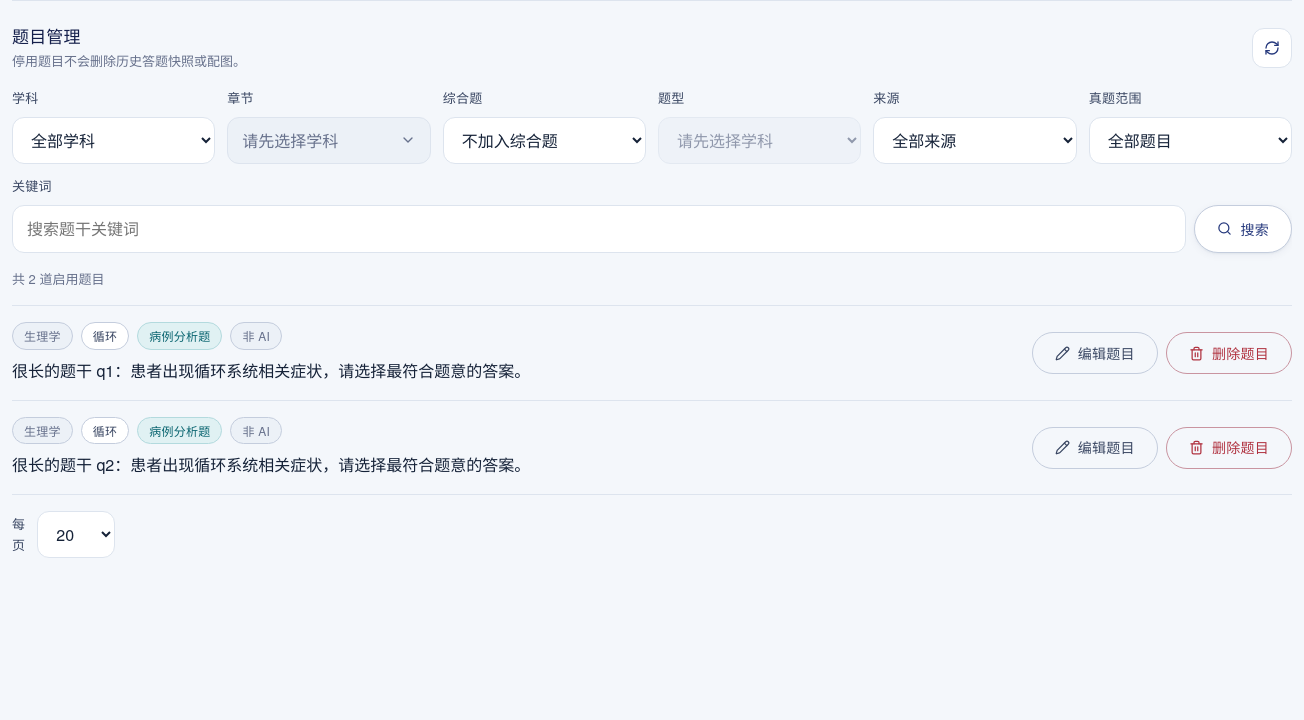
Scenario: AdminQuizManage › locks only the active row while deletion is in flight
Click the button with class "delete-button" in the row of "很长的题干 q1：患者出现循环系统相关症状，请选择最符合题意的答案。" at (1229, 353), box [1166, 332, 1292, 374]
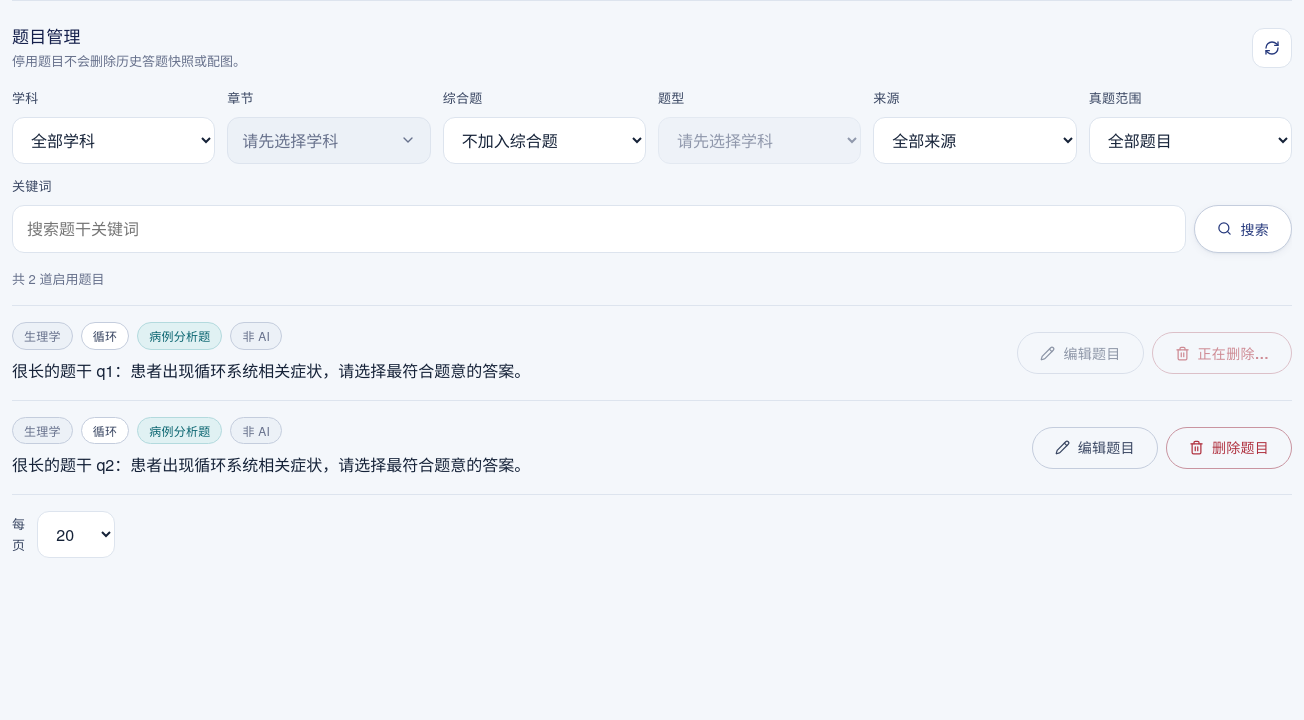
Check: the button with class "delete-button" shows "正在删除", box [1152, 332, 1292, 374]
